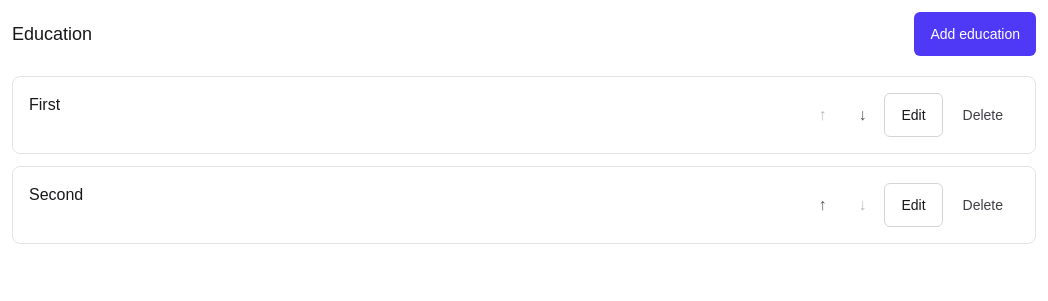
Test case: EducationEditor › keeps local order on reorder failure
Click the button named "Move First down" at (862, 115), box left=844, top=93, right=880, bottom=137
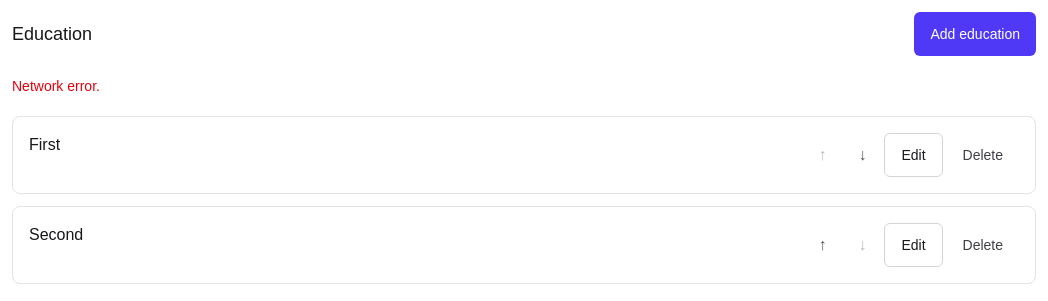
Check: the text "First" is shown, box left=29, top=133, right=60, bottom=157
Check: the text "Network error." is shown, box left=12, top=78, right=100, bottom=94
